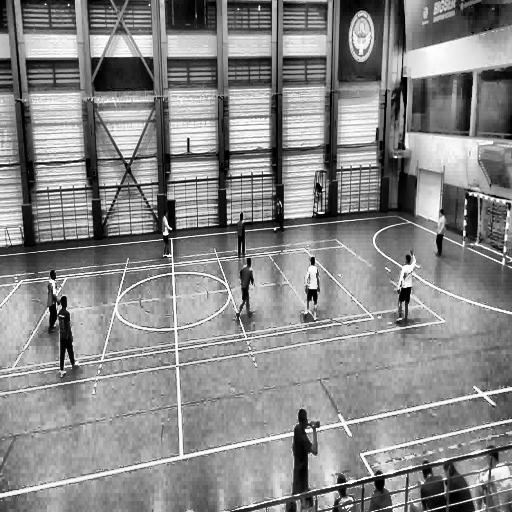ball: (273, 227, 278, 236)
player: (291, 409, 319, 512), (59, 295, 80, 375), (395, 253, 413, 325), (302, 255, 320, 323), (236, 257, 254, 321), (46, 269, 60, 334), (161, 210, 172, 260), (435, 208, 446, 257), (236, 214, 246, 258), (274, 193, 285, 231)
